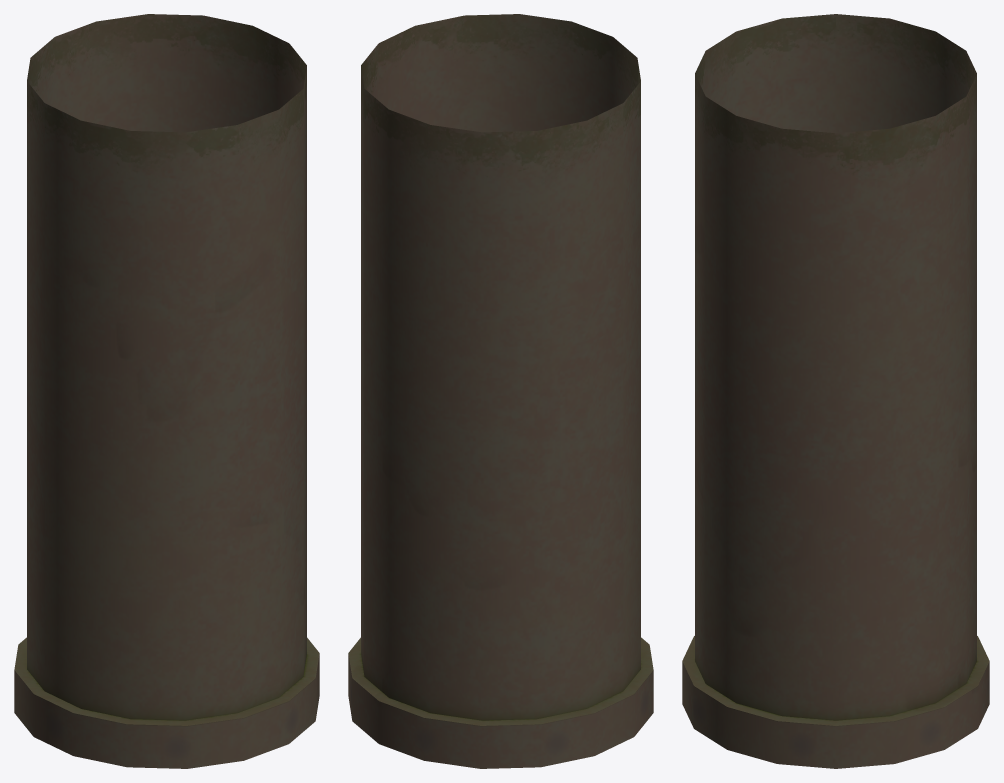
The model's file is Pipe_straight.fbx.
3 views of the same model, side by side, from view 1: azimuth 30°, elevation 25°; view 2: azimuth 150°, elevation 25°; view 3: azimuth 270°, elevation 25° (orthographic).
Parts seen in each view (by area): view 1: Pipe_straight; view 2: Pipe_straight; view 3: Pipe_straight.
Part boxes in pixels (box(x1,y1,x2,y2)): Pipe_straight: box(14, 14, 319, 768); Pipe_straight: box(348, 14, 653, 768); Pipe_straight: box(682, 14, 989, 768).
Bounding box in the file's own units: 0.1969 × 0.4454 × 0.1969.
